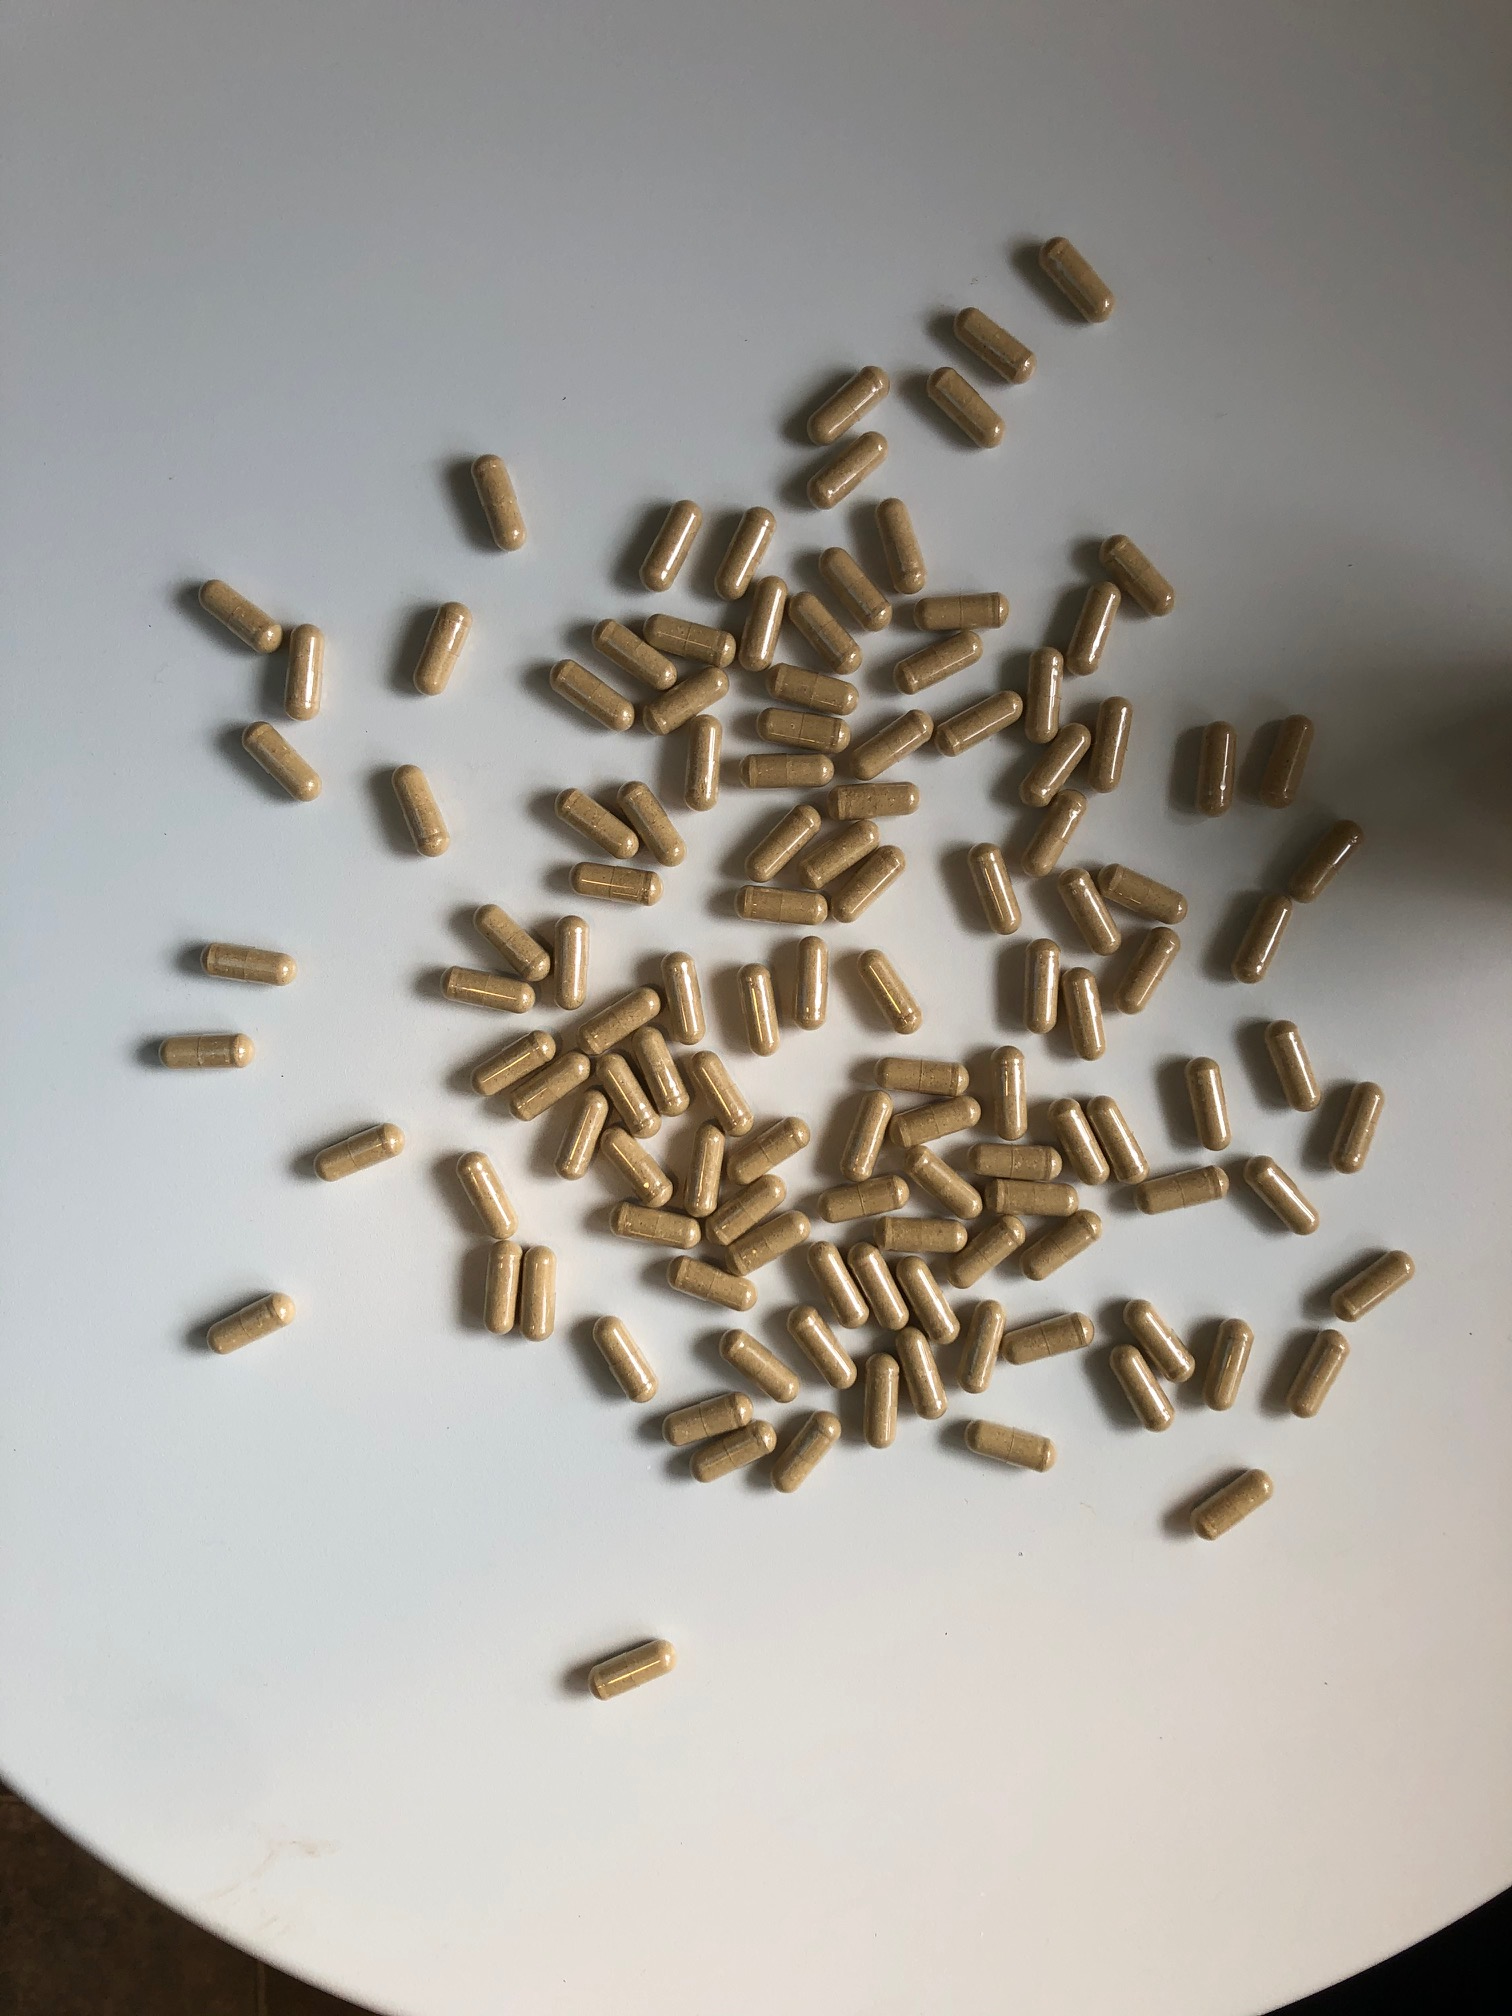capsule: (951, 303, 1042, 391), (804, 364, 897, 448), (924, 365, 1010, 454), (1039, 233, 1118, 329), (545, 656, 638, 735), (1096, 532, 1178, 621), (1325, 1246, 1417, 1325), (503, 1045, 597, 1122), (766, 1406, 847, 1495), (195, 576, 284, 656), (815, 544, 894, 633), (715, 1324, 804, 1403), (785, 1303, 862, 1394), (686, 1418, 778, 1494), (586, 1314, 662, 1406), (1123, 1294, 1198, 1387), (805, 429, 889, 511), (786, 589, 866, 676), (615, 779, 692, 868), (203, 1289, 297, 1362), (241, 721, 324, 803), (310, 1121, 407, 1191), (1018, 721, 1093, 811), (588, 617, 680, 691), (465, 1027, 557, 1100), (1105, 1345, 1178, 1437), (847, 708, 935, 783), (580, 1635, 677, 1703), (575, 983, 665, 1056), (638, 667, 731, 738), (594, 1049, 665, 1141), (472, 902, 553, 983), (742, 800, 821, 883), (1286, 821, 1366, 903), (597, 1125, 677, 1208), (945, 1213, 1028, 1292), (634, 498, 704, 592), (1020, 786, 1090, 879), (689, 1048, 759, 1141), (901, 1145, 986, 1221), (553, 786, 642, 859), (1096, 862, 1193, 929), (796, 818, 881, 892), (1244, 1152, 1318, 1238), (893, 629, 986, 697), (721, 1206, 815, 1275), (1283, 1327, 1352, 1421), (454, 1149, 521, 1245), (1048, 1094, 1113, 1191), (1193, 1467, 1274, 1545), (831, 844, 907, 927), (1056, 867, 1124, 959), (805, 1238, 874, 1330), (713, 505, 778, 600), (854, 946, 923, 1037), (704, 1175, 786, 1249), (411, 600, 475, 697), (631, 1021, 694, 1118), (1086, 1094, 1151, 1187), (1263, 1018, 1325, 1114), (896, 1254, 961, 1346), (939, 689, 1024, 759), (470, 454, 530, 552), (1232, 891, 1294, 986), (847, 1240, 912, 1330), (727, 1118, 812, 1187), (1018, 1210, 1102, 1279), (872, 497, 931, 597), (665, 1254, 762, 1314), (662, 1387, 759, 1448), (389, 762, 451, 856), (1117, 927, 1180, 1018), (759, 664, 866, 718), (1066, 579, 1123, 679), (1131, 1160, 1231, 1218), (1328, 1079, 1387, 1176), (961, 1414, 1059, 1472), (638, 611, 739, 667), (654, 948, 710, 1048), (1001, 1310, 1101, 1365), (894, 1325, 951, 1422), (739, 571, 793, 673), (966, 841, 1023, 937), (751, 703, 854, 756), (727, 883, 837, 932), (886, 1094, 983, 1149), (553, 1086, 610, 1179), (608, 1198, 704, 1254), (835, 1091, 893, 1183), (1201, 1314, 1253, 1414), (1086, 694, 1137, 795), (1261, 714, 1313, 813), (818, 1170, 915, 1222), (1193, 721, 1242, 821), (197, 940, 299, 987), (681, 1114, 727, 1218), (438, 967, 537, 1014), (735, 960, 785, 1056), (284, 621, 330, 721), (966, 1140, 1066, 1186), (989, 1041, 1034, 1145), (977, 1173, 1080, 1218), (570, 859, 665, 906), (1183, 1056, 1231, 1151), (874, 1051, 970, 1097), (958, 1297, 1004, 1394), (518, 1245, 562, 1345), (862, 1349, 904, 1456), (1063, 965, 1107, 1064), (912, 591, 1015, 632), (1024, 644, 1066, 746), (1020, 935, 1061, 1037), (480, 1240, 524, 1333), (681, 714, 724, 811), (821, 779, 921, 821), (737, 751, 839, 791), (793, 935, 834, 1030), (872, 1214, 970, 1254), (553, 911, 589, 1013), (156, 1033, 251, 1071)
